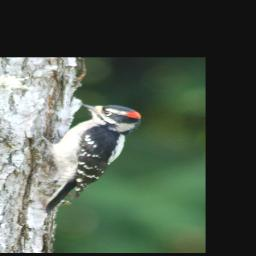Woodpecker: (36, 101, 145, 216)
